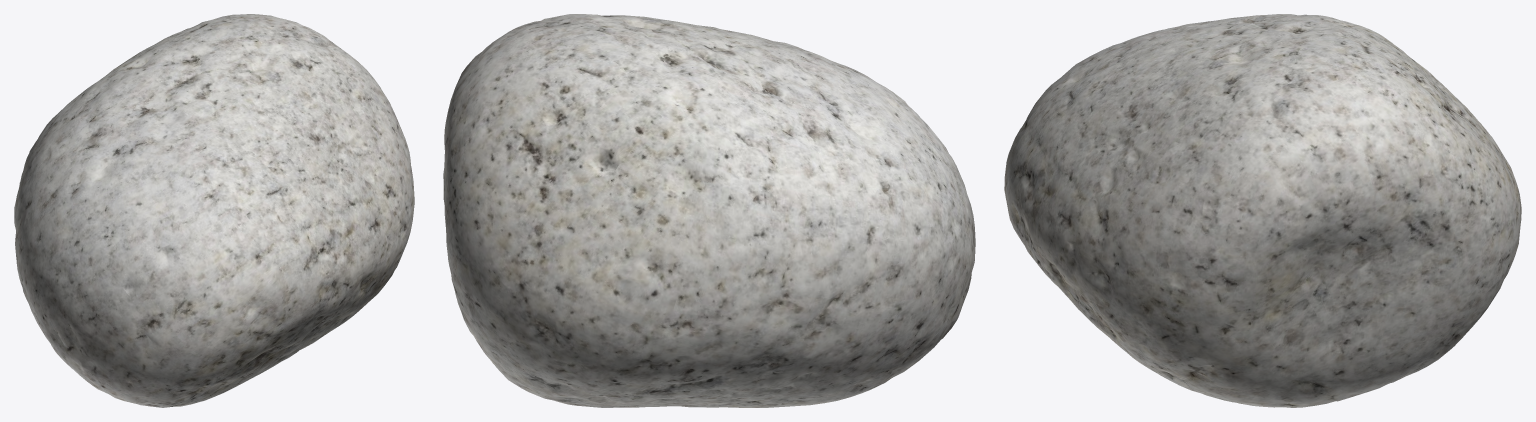
The picture shows the model from 3 angles, left to right: view 1: azimuth 30°, elevation 25°; view 2: azimuth 150°, elevation 25°; view 3: azimuth 270°, elevation 25°; orthographic projection. The views are drawn at different scales.
Parts seen in each view (by area): view 1: rock-004; view 2: rock-004; view 3: rock-004.
Boxes of the visible parts, x1=… form: rock-004: x1=14, y1=14, x2=414, y2=407; rock-004: x1=443, y1=14, x2=975, y2=407; rock-004: x1=1004, y1=14, x2=1521, y2=407.
Bounding box in the file's own units: 1.96 × 1.55 × 2.
1 material, 1 textured.
